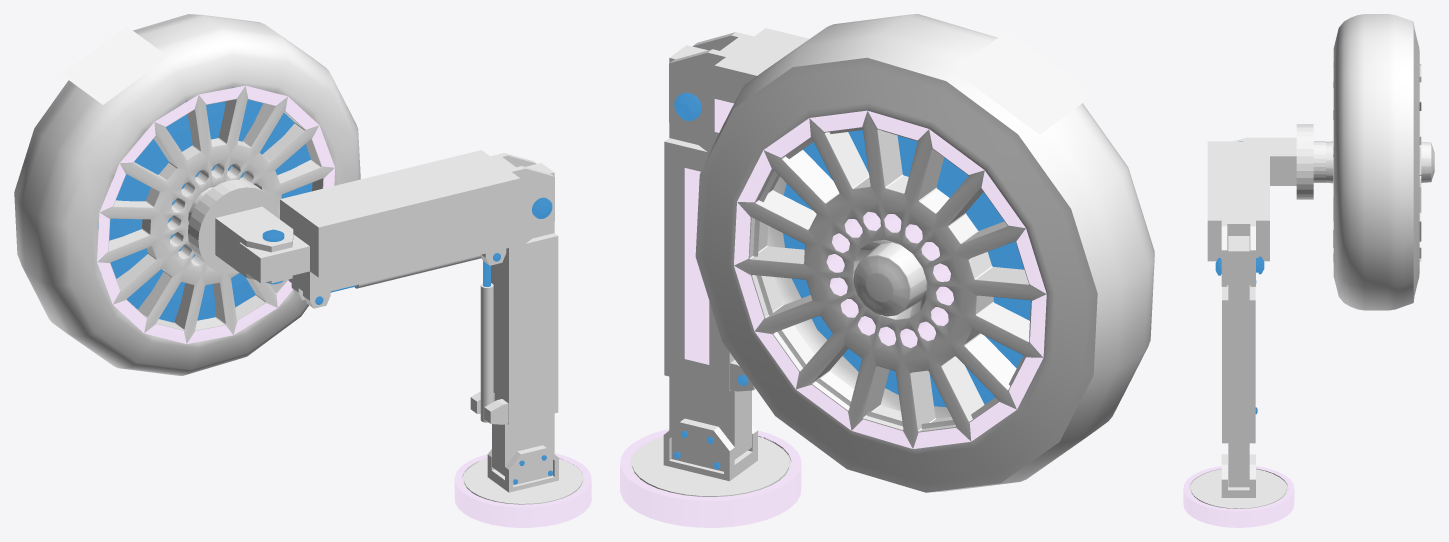
3 renders of one model, left to right at view 1: azimuth 30°, elevation 25°; view 2: azimuth 150°, elevation 25°; view 3: azimuth 270°, elevation 25°, orthographic. The views are drawn at different scales.
Visible parts, largest first — view 1: ban_2.055, ban_2.057, Plane.083, Cube.016, ban_2.056, Plane.082, ban_2.060, Circle.058, Circle.059, Plane.093, Cylinder.057, Plane.090; view 2: ban_2.055, ban_2.058, Cube.016, Plane.082, Plane.083, ban_2.060, Circle.058, ban_2.056, Circle.187; view 3: ban_2.055, Cube.016, Plane.083, Plane.082, Circle.058, Circle.059, Plane.093, ban_2.058, ban_2.057.
Part boxes in pixels (left/top/right/bottom): ban_2.055: left=14, top=14, right=360, bottom=375; ban_2.057: left=97, top=85, right=334, bottom=344; Plane.083: left=239, top=150, right=554, bottom=296; Cube.016: left=491, top=163, right=558, bottom=475; ban_2.056: left=98, top=87, right=312, bottom=322; Plane.082: left=462, top=445, right=583, bottom=504; ban_2.060: left=61, top=26, right=168, bottom=104; Circle.058: left=454, top=453, right=591, bottom=527; Circle.059: left=188, top=179, right=278, bottom=274; Plane.093: left=215, top=206, right=293, bottom=283; Cylinder.057: left=480, top=283, right=493, bottom=422; Plane.090: left=470, top=391, right=508, bottom=424; ban_2.055: left=695, top=14, right=1154, bottom=492; ban_2.058: left=734, top=110, right=1046, bottom=448; Cube.016: left=664, top=45, right=751, bottom=459; Plane.082: left=630, top=418, right=791, bottom=496; Plane.083: left=669, top=28, right=809, bottom=152; ban_2.060: left=953, top=30, right=1094, bottom=134; Circle.058: left=620, top=429, right=801, bottom=527; ban_2.056: left=783, top=130, right=1030, bottom=407; Circle.187: left=674, top=92, right=701, bottom=120; ban_2.055: left=1333, top=14, right=1419, bottom=310; Cube.016: left=1222, top=236, right=1255, bottom=487; Plane.083: left=1207, top=141, right=1269, bottom=286; Plane.082: left=1189, top=454, right=1287, bottom=508; Circle.058: left=1183, top=465, right=1294, bottom=527; Circle.059: left=1296, top=124, right=1325, bottom=199; Plane.093: left=1233, top=137, right=1296, bottom=185; ban_2.058: left=1419, top=63, right=1434, bottom=261; ban_2.057: left=1326, top=62, right=1333, bottom=262.
Bounding box in the file's own units: 22.62 × 21.68 × 13.01.
